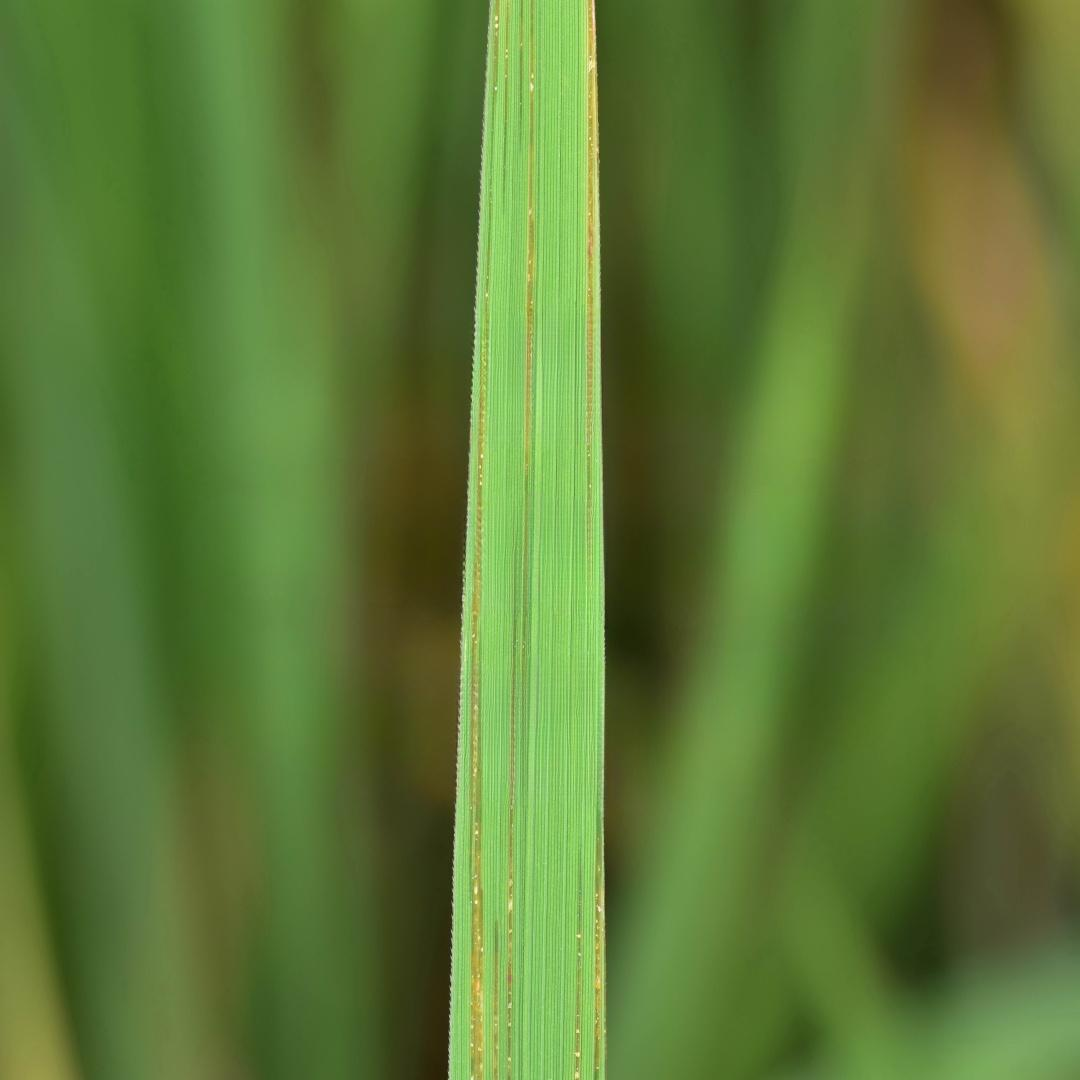BLS: (469, 0, 500, 1079), (521, 0, 536, 739), (586, 0, 600, 591), (507, 614, 518, 1079), (594, 837, 605, 1079), (502, 0, 511, 202), (575, 902, 582, 1079), (492, 918, 498, 1079), (519, 0, 523, 146)
